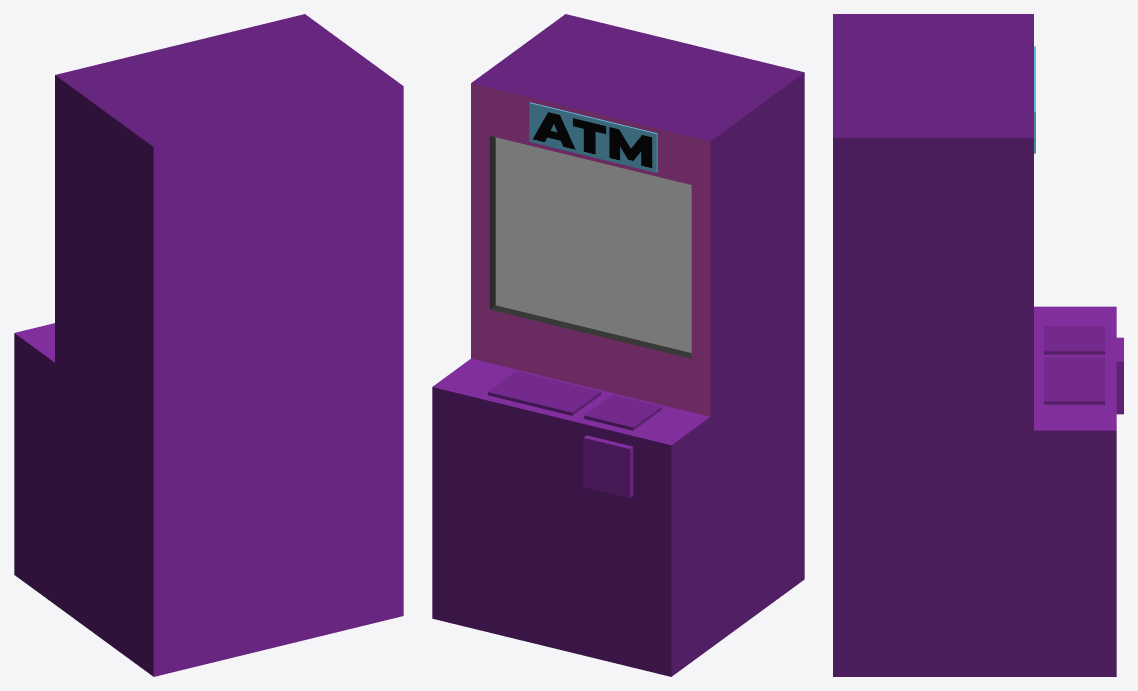
The model's file is prop_atm.fbx.
3 renders of one model, left to right at view 1: azimuth 30°, elevation 25°; view 2: azimuth 150°, elevation 25°; view 3: azimuth 270°, elevation 25°, orthographic. The views are drawn at different scales.
Parts seen in each view (by area): view 1: polySurface10; view 2: polySurface10; view 3: polySurface10.
Part boxes in pixels (bbox=[...]): polySurface10: bbox=[14, 14, 403, 676]; polySurface10: bbox=[432, 14, 804, 676]; polySurface10: bbox=[833, 14, 1123, 676].
Size of the model in its own units: 2.37 by 4.79 by 2.34.
